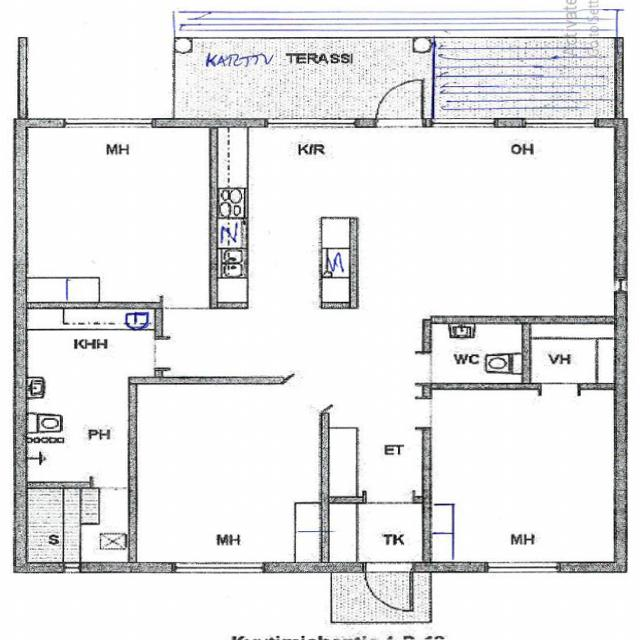door: (366, 564, 412, 612), (377, 81, 423, 128)
